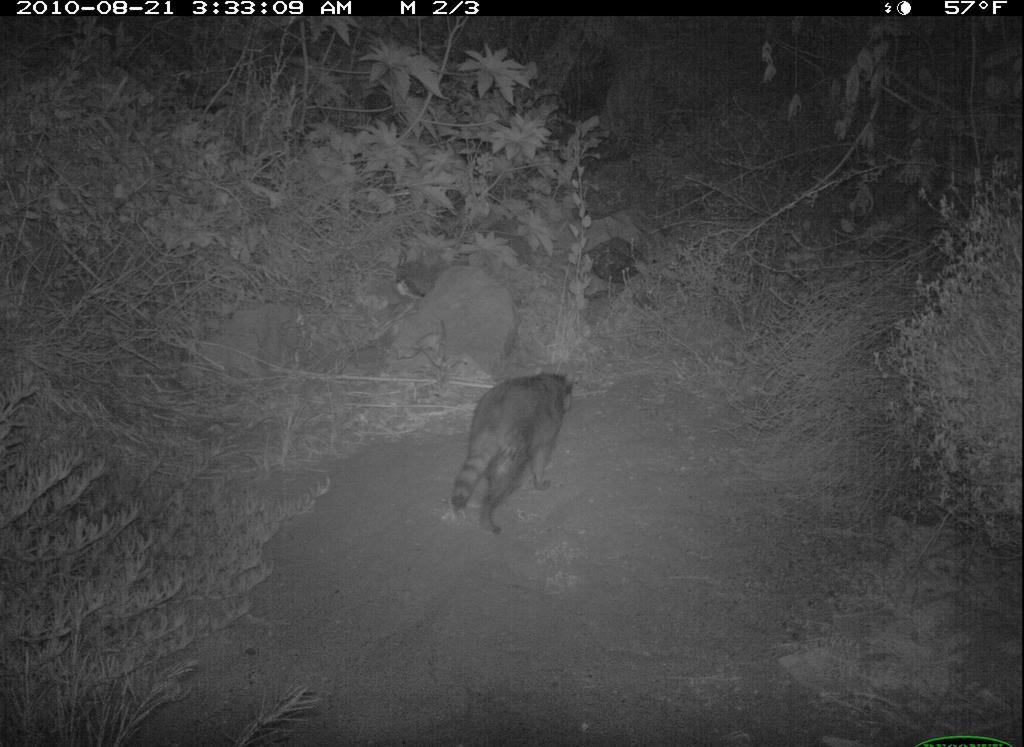raccoon: (446, 368, 582, 538)
